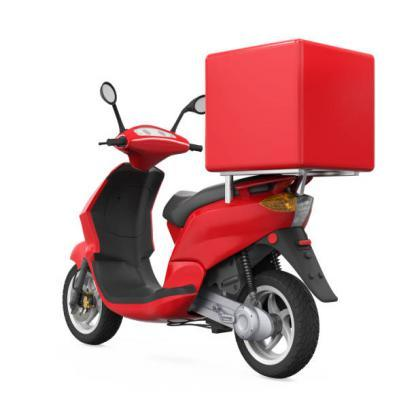Motorcycle: (55, 54, 329, 381)
